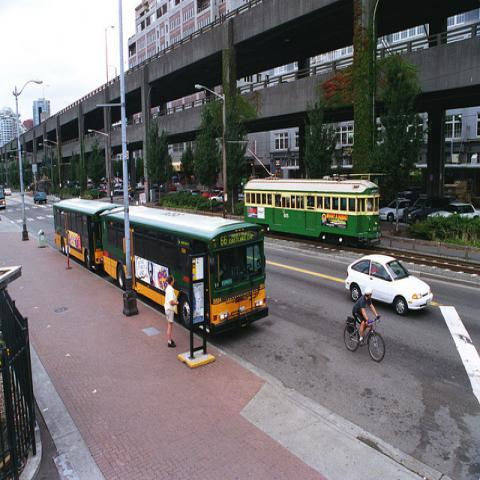bus: (101, 203, 269, 337), (53, 196, 124, 270)
car: (344, 254, 433, 317), (407, 194, 451, 224), (428, 203, 480, 219), (379, 198, 411, 221), (201, 186, 223, 199), (32, 192, 48, 204), (211, 192, 223, 204), (114, 184, 123, 196), (169, 184, 177, 192), (4, 190, 11, 196), (136, 183, 141, 190)
